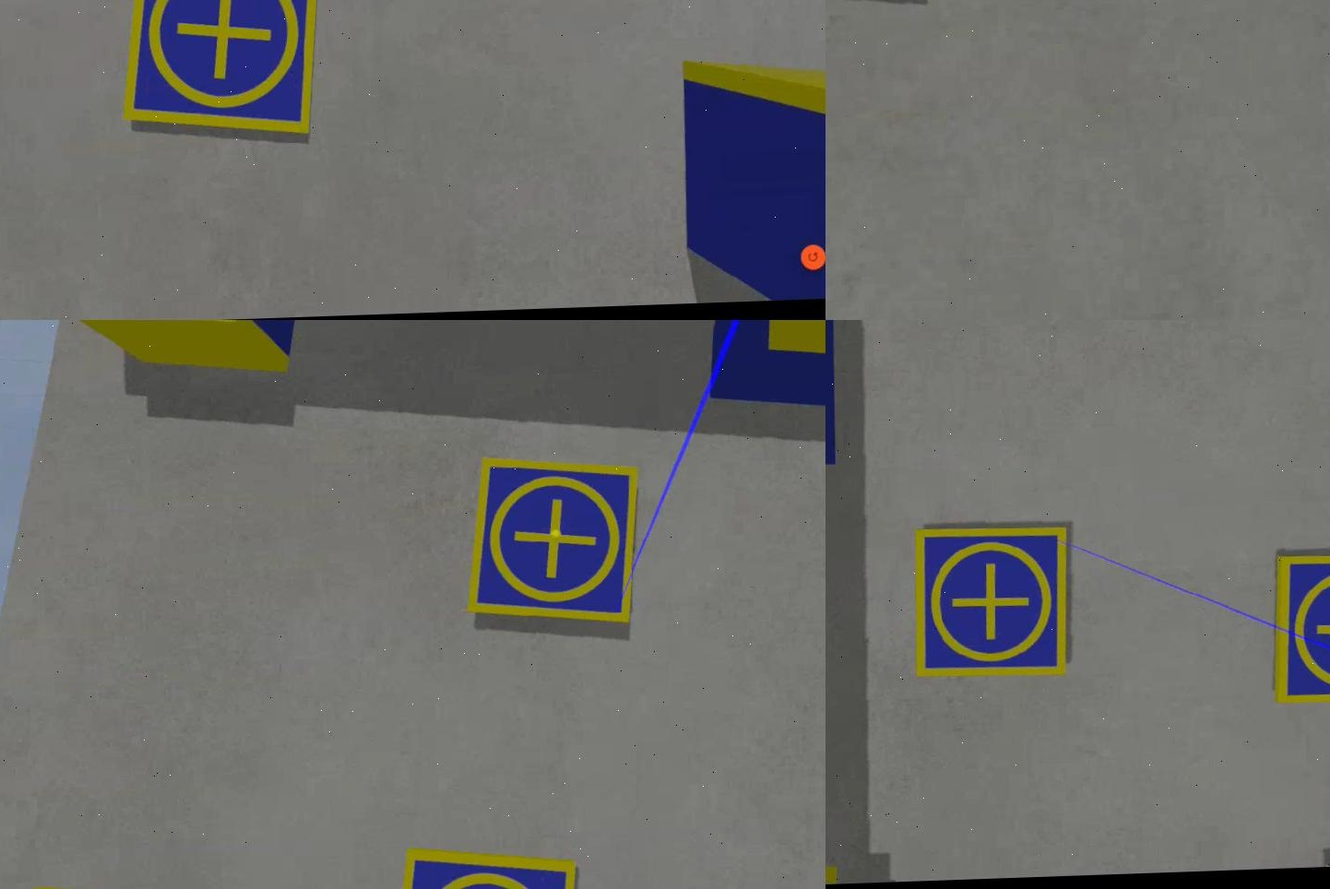small_base: (461, 450, 646, 635), (116, 1, 328, 150), (907, 527, 1073, 683), (383, 839, 581, 889), (1266, 550, 1328, 709)
